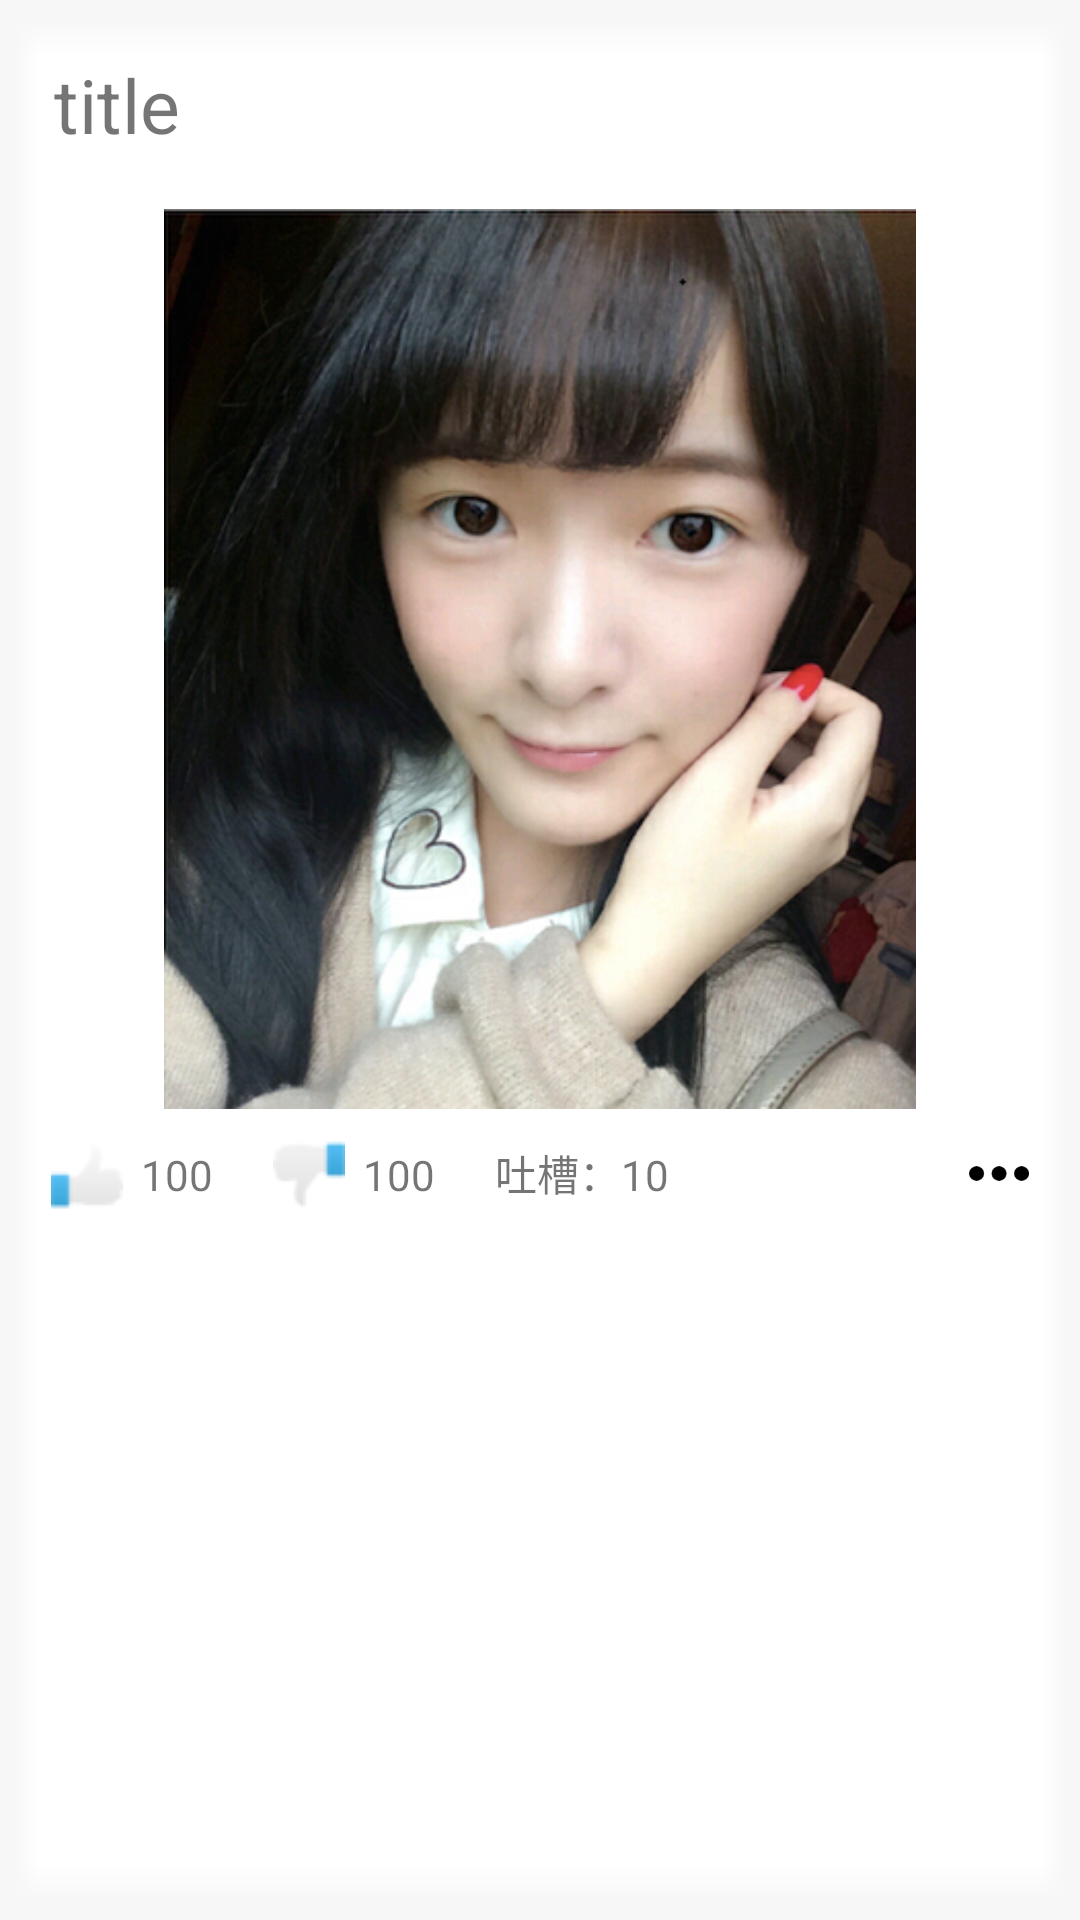

Icons on this 1080 × 1920 Android screen, each with its box as {"x1": x1, "y1": y1, "x2": x2, "y2": y2}:
pic threepoint: {"x1": 969, "y1": 1166, "x2": 1029, "y2": 1181}
